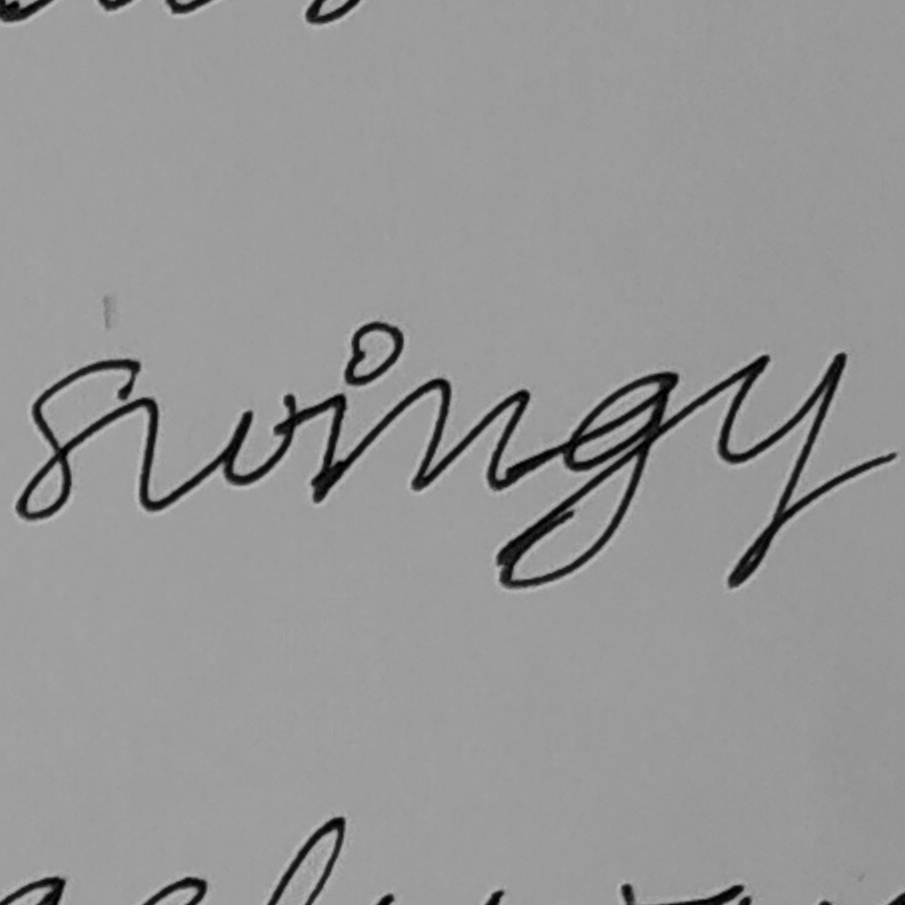g: (485, 364, 681, 592)
i: (306, 314, 406, 508)
n: (406, 374, 533, 500)
s: (11, 355, 144, 525)
w: (132, 388, 299, 515)
y: (709, 345, 850, 592)
